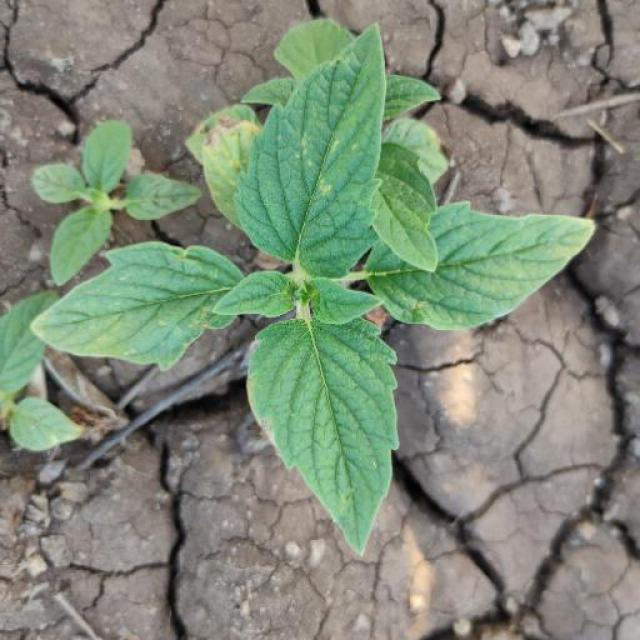crop: (26, 24, 599, 558)
